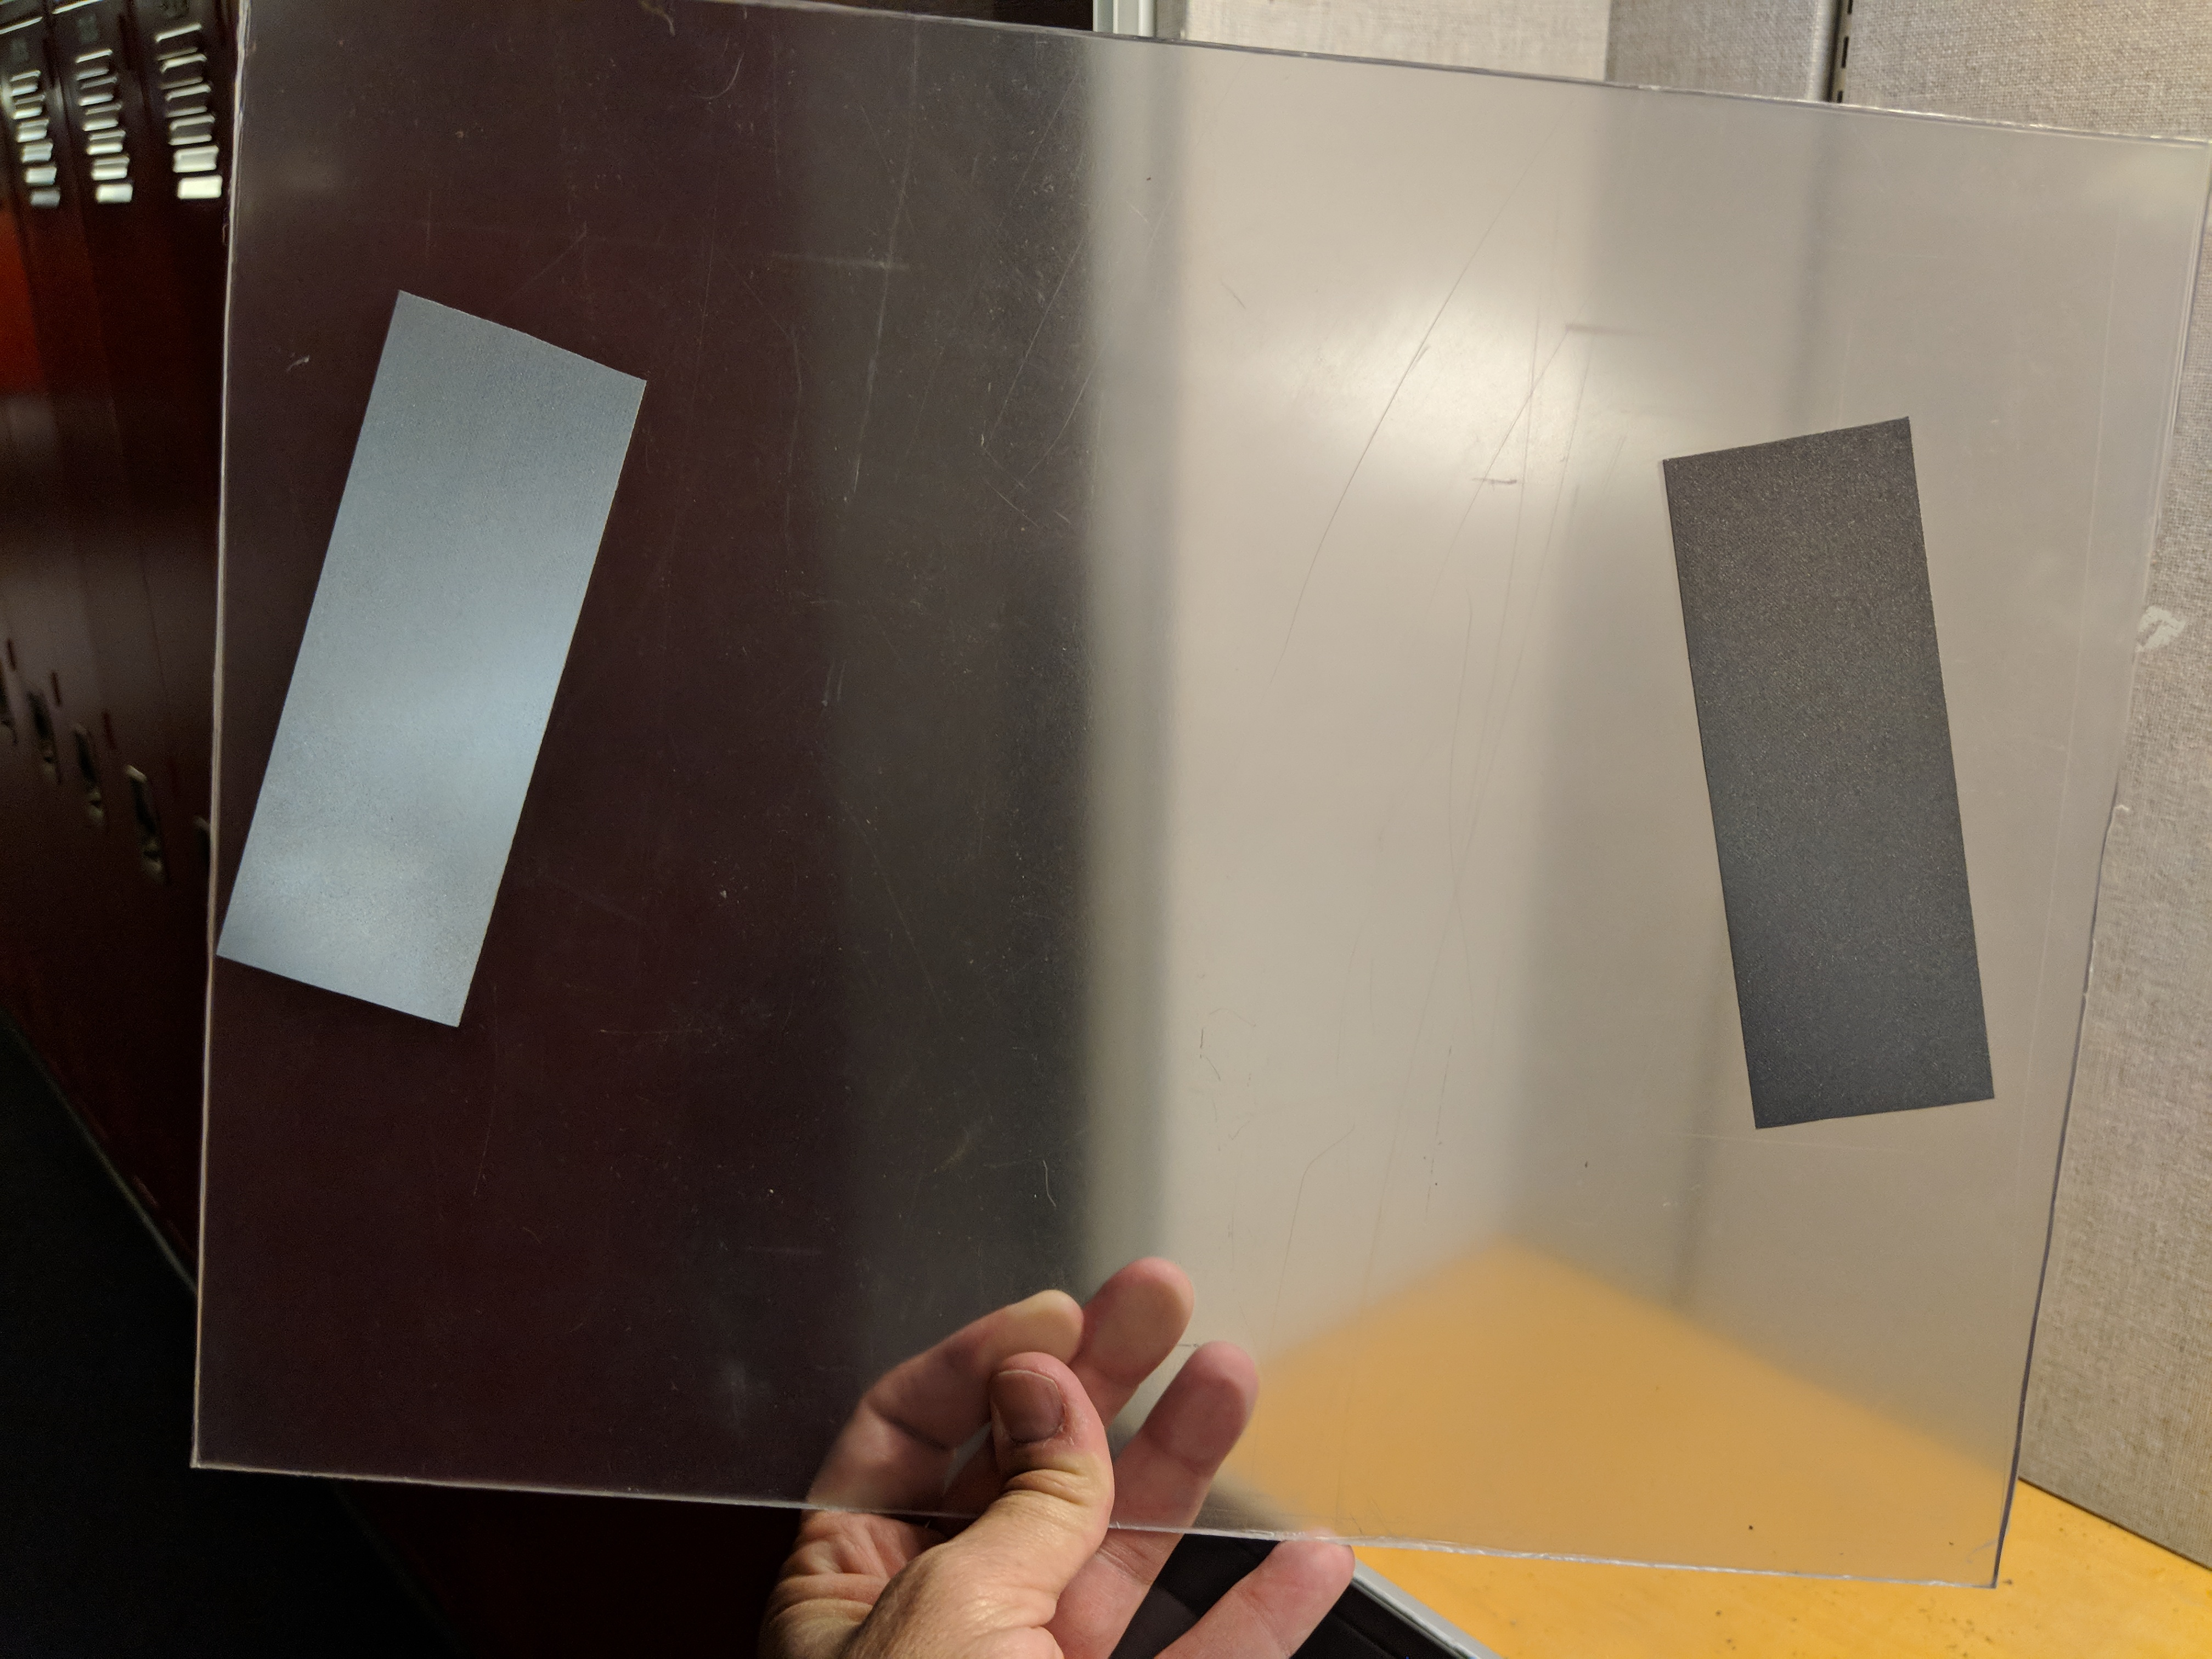vision_target: (200, 270, 2022, 1145)
